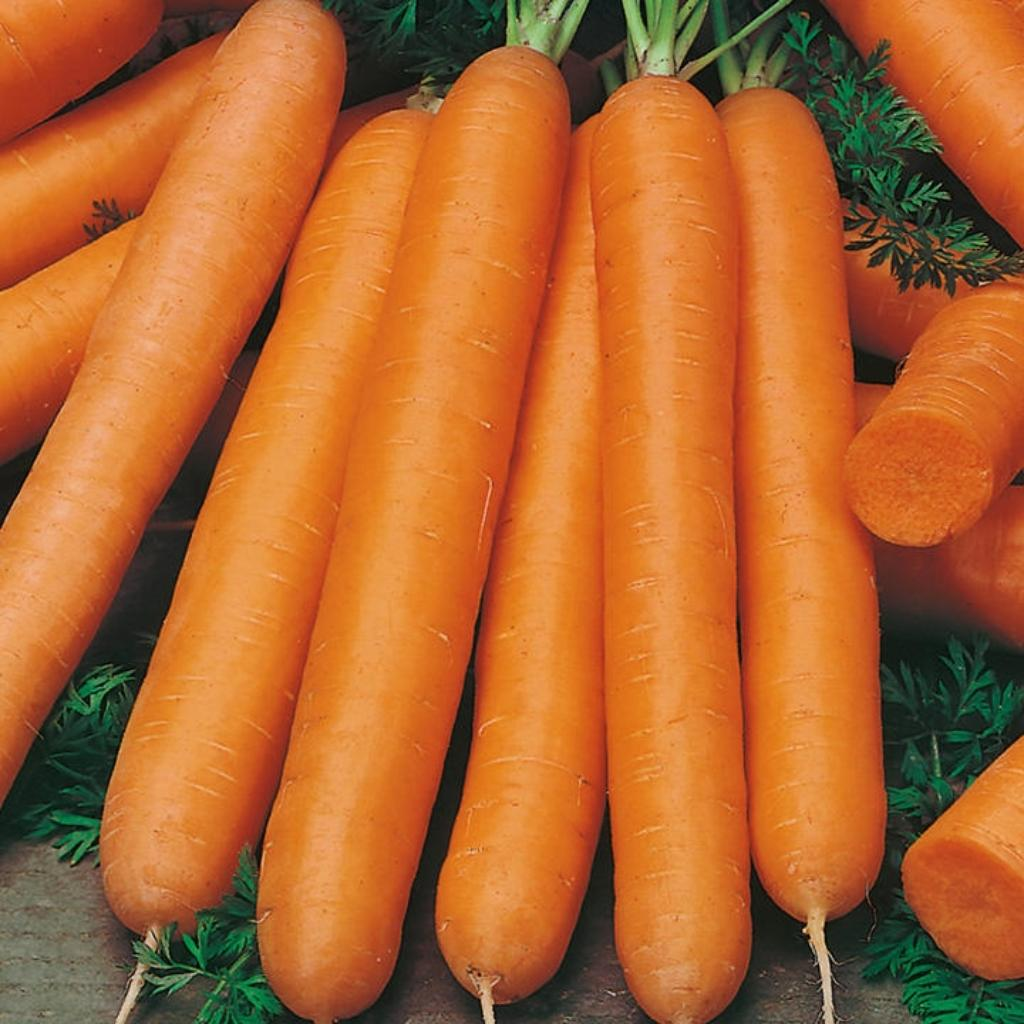carrot: (0, 0, 580, 1021), (589, 0, 796, 1021)
